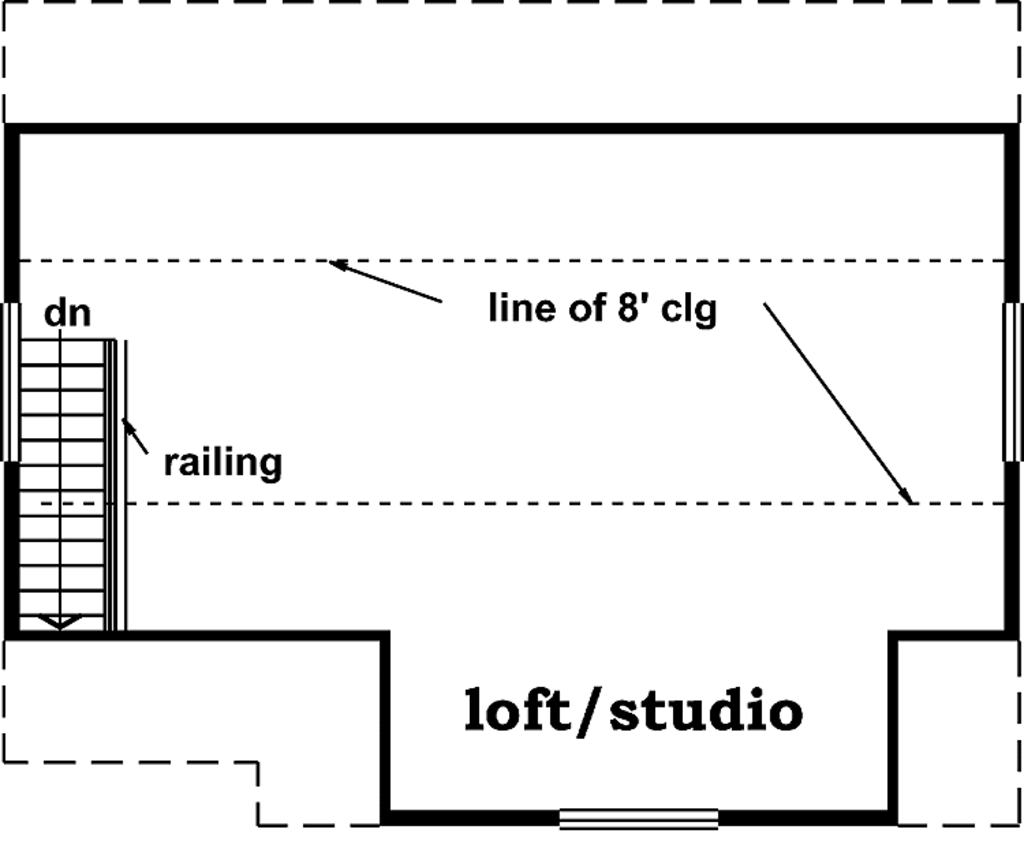stairs: (15, 325, 132, 634)
window: (553, 802, 723, 834), (998, 300, 1024, 474), (1, 298, 25, 463)
